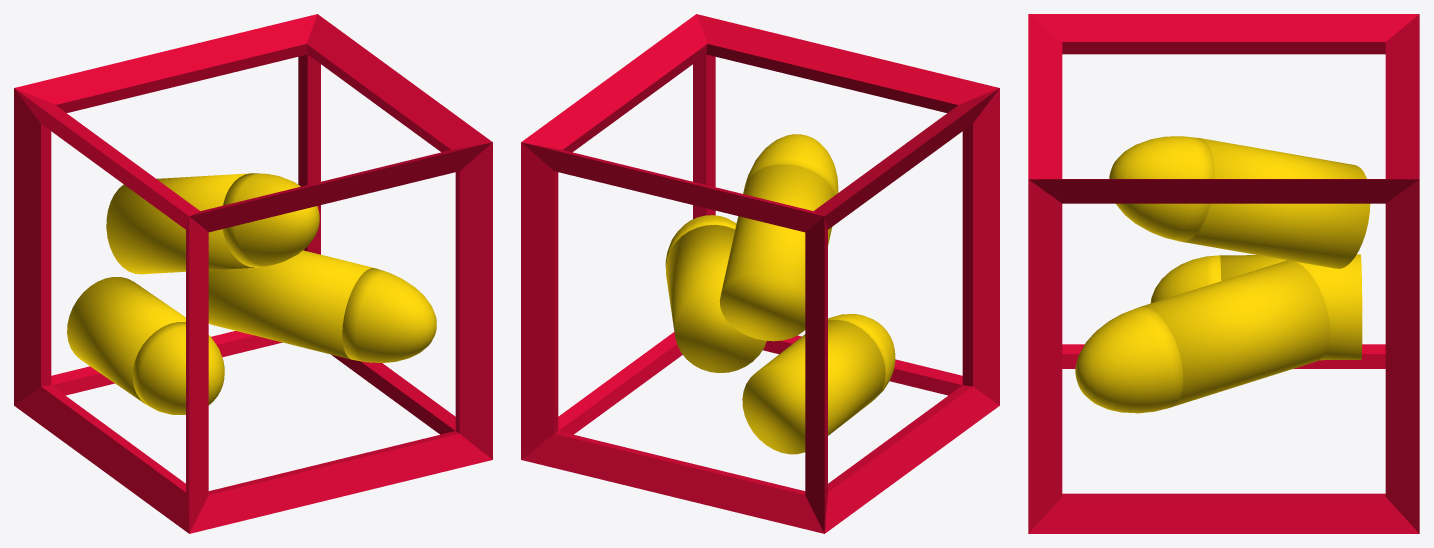
File: item_typeA.fbx
The picture shows the model from 3 angles, left to right: view 1: azimuth 30°, elevation 25°; view 2: azimuth 150°, elevation 25°; view 3: azimuth 270°, elevation 25°; orthographic projection. The views are drawn at different scales.
Parts seen in each view (by area): view 1: 立方体, 円柱.003; view 2: 立方体, 円柱.003; view 3: 立方体, 円柱.003.
Part boxes in pixels (<box>): 立方体: <box>14,14,492,533</box>; 円柱.003: <box>67,173,436,414</box>; 立方体: <box>521,14,999,533</box>; 円柱.003: <box>665,134,895,454</box>; 立方体: <box>1028,14,1419,533</box>; 円柱.003: <box>1075,136,1370,413</box>.
Size of the model in its own units: 2.23 by 2.23 by 2.23.
Materials: 2 (2 with a texture image).
